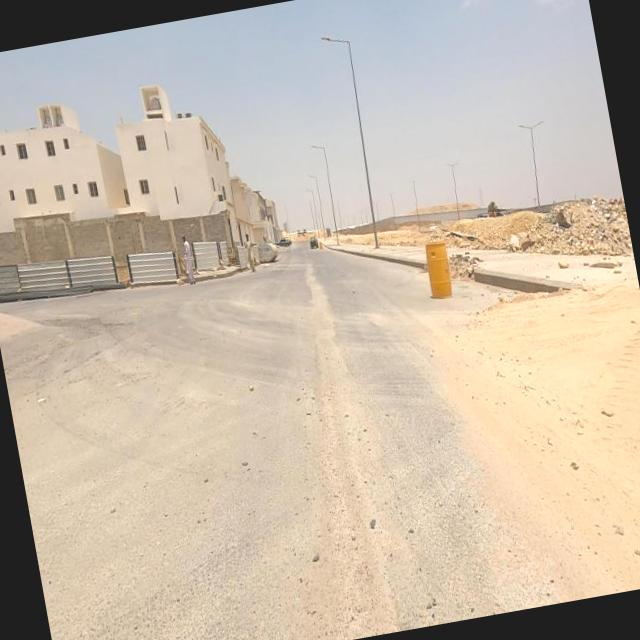debris: (518, 174, 618, 295), (484, 208, 540, 282), (434, 229, 480, 294)
